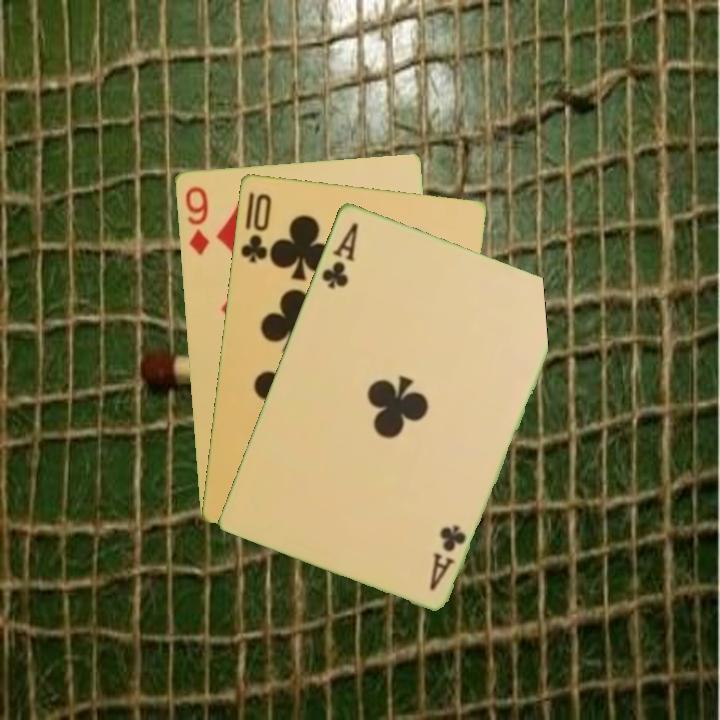10c: (237, 189, 274, 265)
9d: (181, 182, 212, 257)
Ac: (425, 520, 469, 593), (318, 218, 361, 292)
